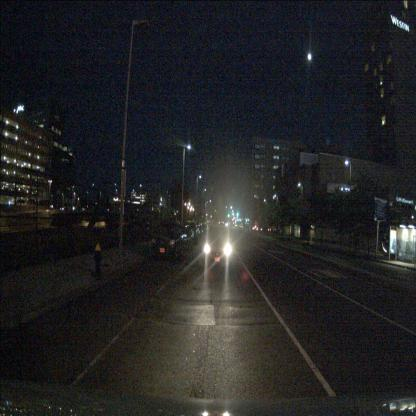vehicle-car: (151, 220, 184, 263), (205, 223, 231, 268), (174, 224, 193, 253), (183, 220, 198, 245)
